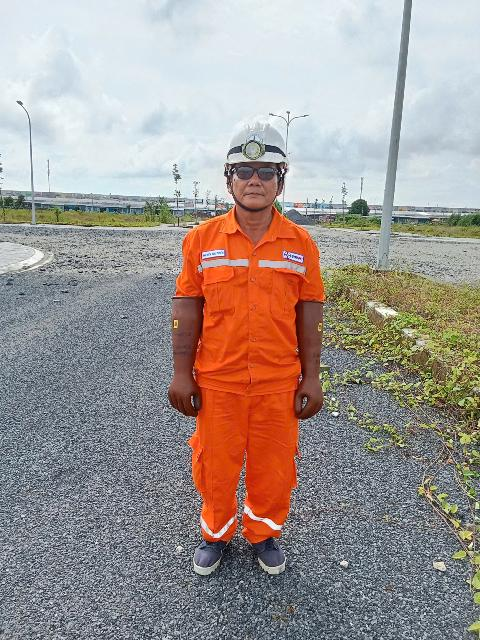gloves: (275, 289, 350, 441), (153, 284, 220, 420)
helmet: (220, 113, 294, 174)
shoes: (229, 526, 295, 583), (192, 525, 228, 581)
